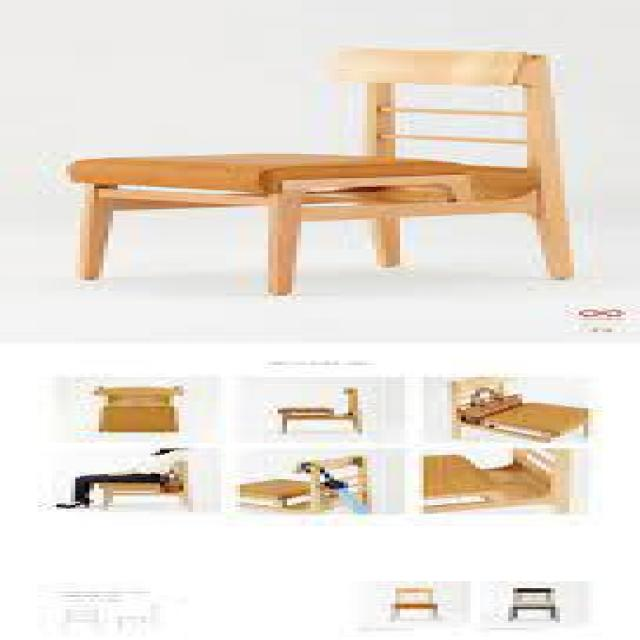chair: (52, 38, 607, 303)
